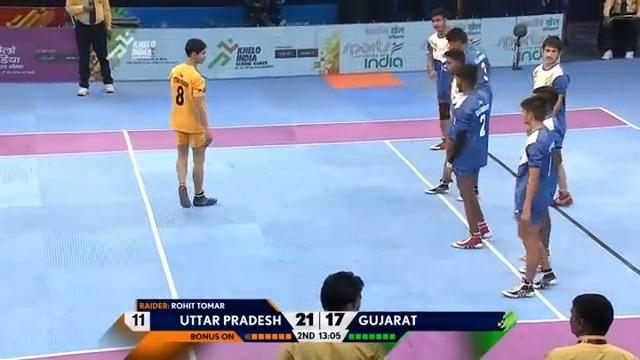Player: (501, 94, 561, 298), (275, 270, 386, 359), (443, 60, 492, 249), (530, 34, 573, 207), (543, 292, 638, 359), (64, 0, 115, 96), (424, 9, 456, 150)
Raider: (167, 37, 217, 208)
referee: (596, 0, 639, 59), (243, 0, 286, 26)
